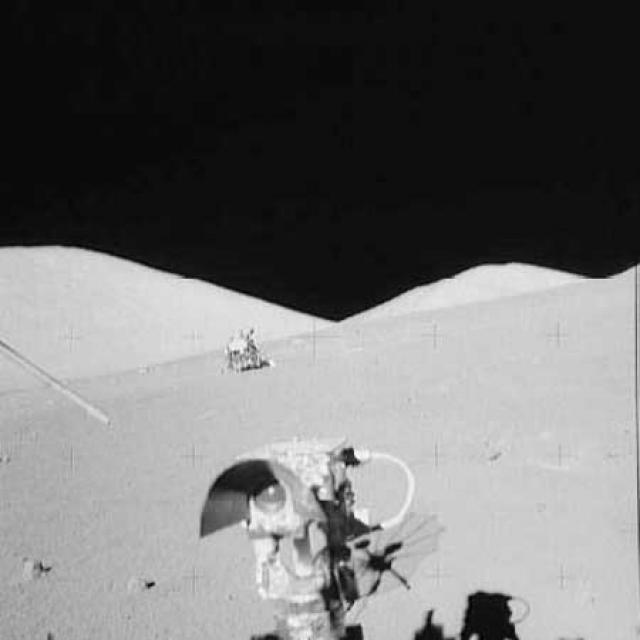artifact: (188, 436, 437, 639), (0, 324, 121, 440), (213, 319, 280, 381)
rock: (120, 563, 156, 600), (17, 550, 50, 588)
